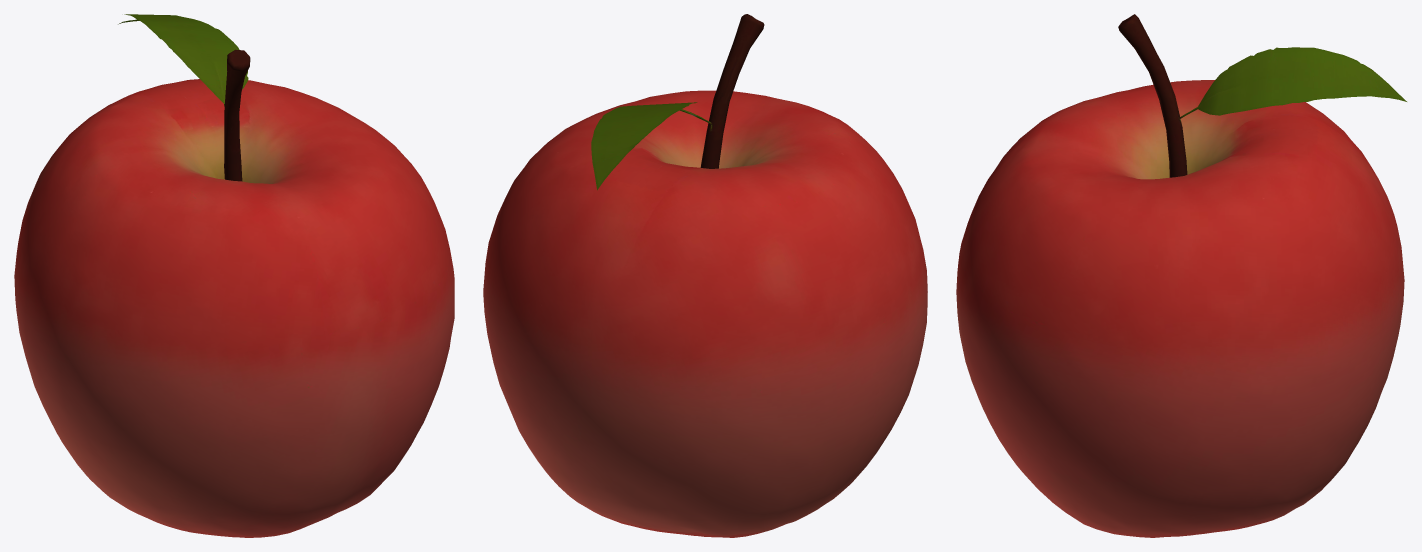
The model's file is original_glb.glb.
The picture shows the model from 3 angles, left to right: view 1: azimuth 30°, elevation 25°; view 2: azimuth 150°, elevation 25°; view 3: azimuth 270°, elevation 25°; orthographic projection.
Parts seen in each view (by area): view 1: Crimson PBR Apple; view 2: Crimson PBR Apple; view 3: Crimson PBR Apple.
Part boxes in pixels (left/top/right/bottom): Crimson PBR Apple: left=14, top=14, right=454, bottom=537; Crimson PBR Apple: left=483, top=14, right=927, bottom=537; Crimson PBR Apple: left=956, top=14, right=1406, bottom=537.
Size of the model in its own units: 0.8535 by 0.998 by 0.8652.
Materials: 1 (1 with a texture image).
